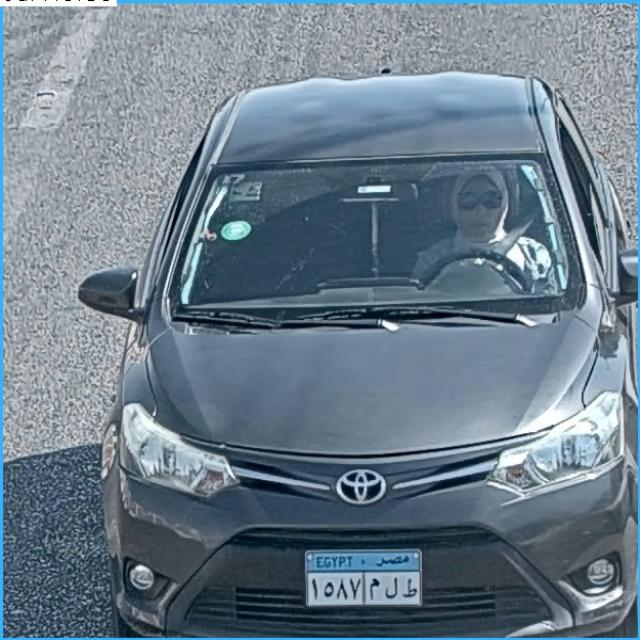windshield: (169, 154, 568, 316)
